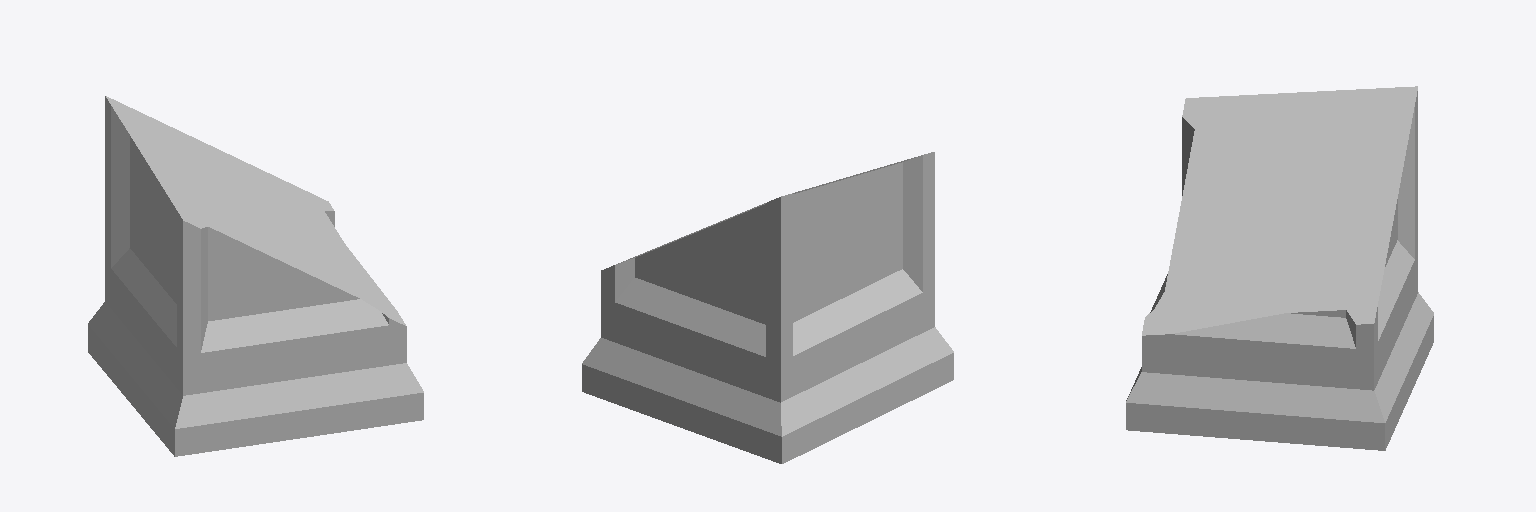
The model's file is BrokenBlock7.obj.
3 renders of one model, left to right at view 1: azimuth 30°, elevation 25°; view 2: azimuth 150°, elevation 25°; view 3: azimuth 270°, elevation 25°, orthographic.
Visible parts, largest first — view 1: BrokenBlock7; view 2: BrokenBlock7; view 3: BrokenBlock7.
Part boxes in pixels (x1,y1,x2,y2): BrokenBlock7: (88,96,423,456); BrokenBlock7: (582,152,953,463); BrokenBlock7: (1126,86,1433,450).
Bounding box in the file's own units: 6.06 × 5.62 × 6.06.